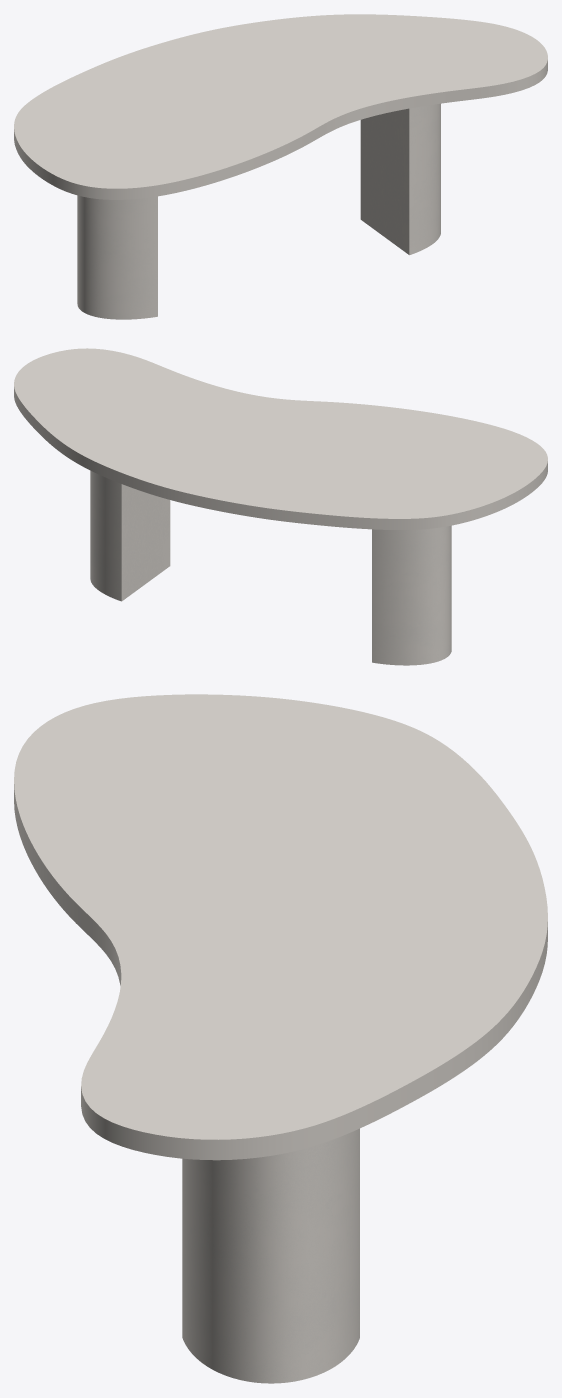
File: pearlwhite_leaf1_standard_hillside.glb
3 renders of one model, top to bottom at view 1: azimuth 30°, elevation 25°; view 2: azimuth 150°, elevation 25°; view 3: azimuth 270°, elevation 25°, orthographic. The views are drawn at different scales.
Visible parts, largest first — view 1: standard_leaf1, hillside; view 2: standard_leaf1, hillside; view 3: standard_leaf1, hillside.
Part boxes in pixels (<box>): standard_leaf1: <box>14,14,547,199</box>; hillside: <box>77,103,440,319</box>; standard_leaf1: <box>14,348,547,529</box>; hillside: <box>90,470,451,665</box>; standard_leaf1: <box>14,694,547,1160</box>; hillside: <box>182,1128,359,1383</box>.
Bounding box in the file's own units: 7.5 × 2.51 × 3.8.
Materials: 1 (1 with a texture image).
